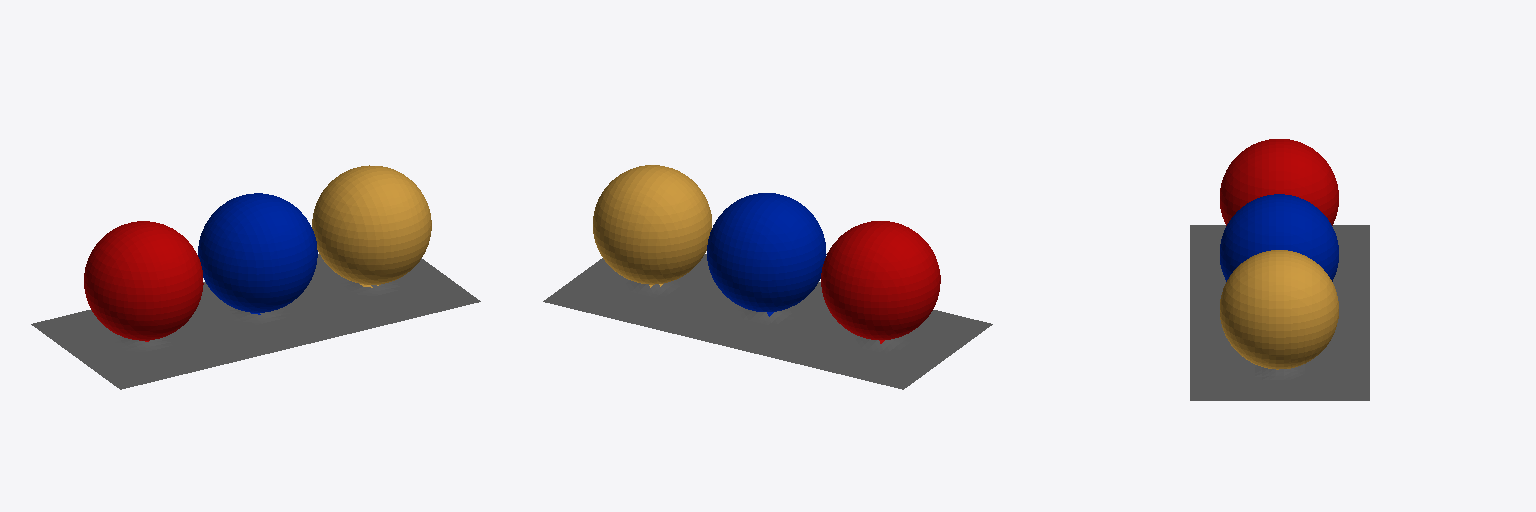
File: 03_material_study.obj
The picture shows the model from 3 angles: view 1: azimuth 30°, elevation 25°; view 2: azimuth 150°, elevation 25°; view 3: azimuth 270°, elevation 25°; orthographic projection.
Visible parts, largest first — view 1: Mesh; view 2: Mesh; view 3: Mesh.
Boxes of the visible parts, x1=… form: Mesh: x1=31, y1=165, x2=480, y2=389; Mesh: x1=543, y1=165, x2=992, y2=389; Mesh: x1=1190, y1=139, x2=1369, y2=400.
Bounding box in the file's own units: 6.96 × 2.1 × 3.